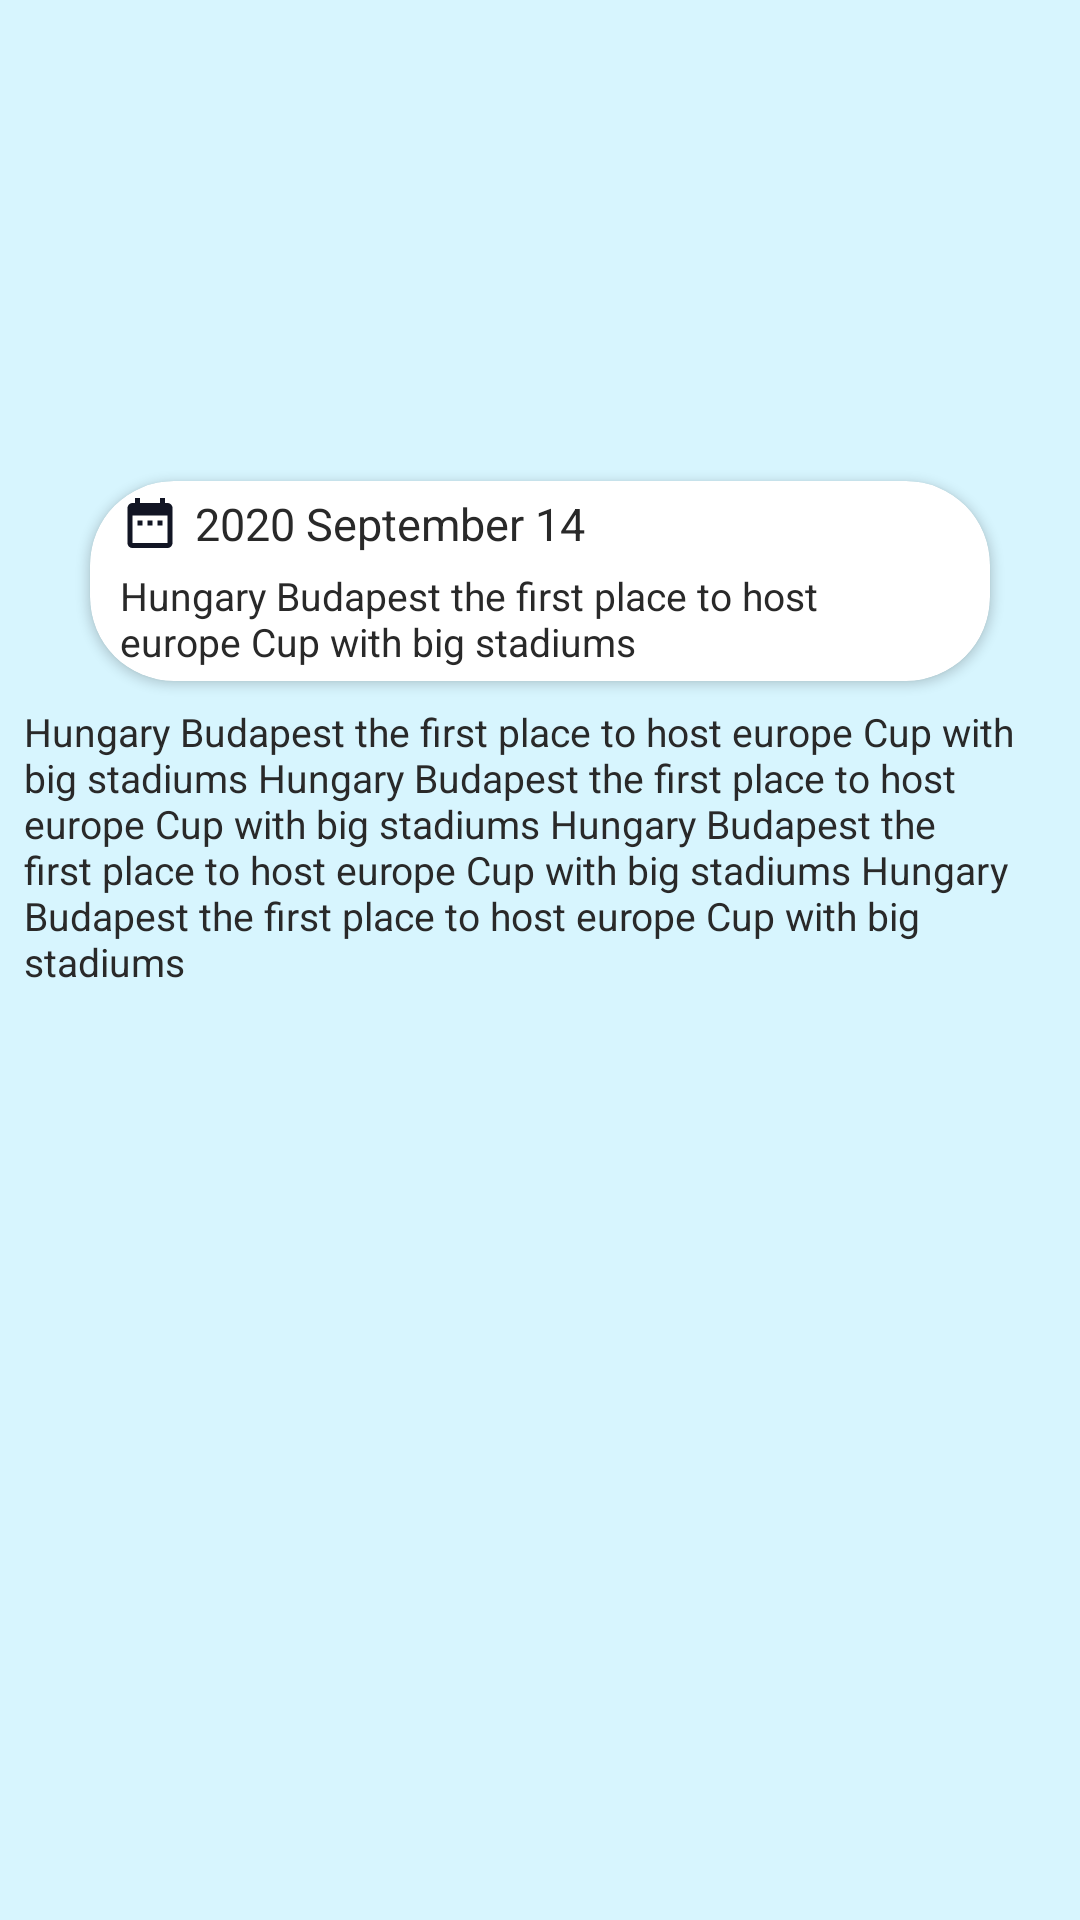

Icon bounding boxes for this 1080×1920 phone screenshot, format [x1,y1,x2,y2]:
calendar: [127,498,173,548]
